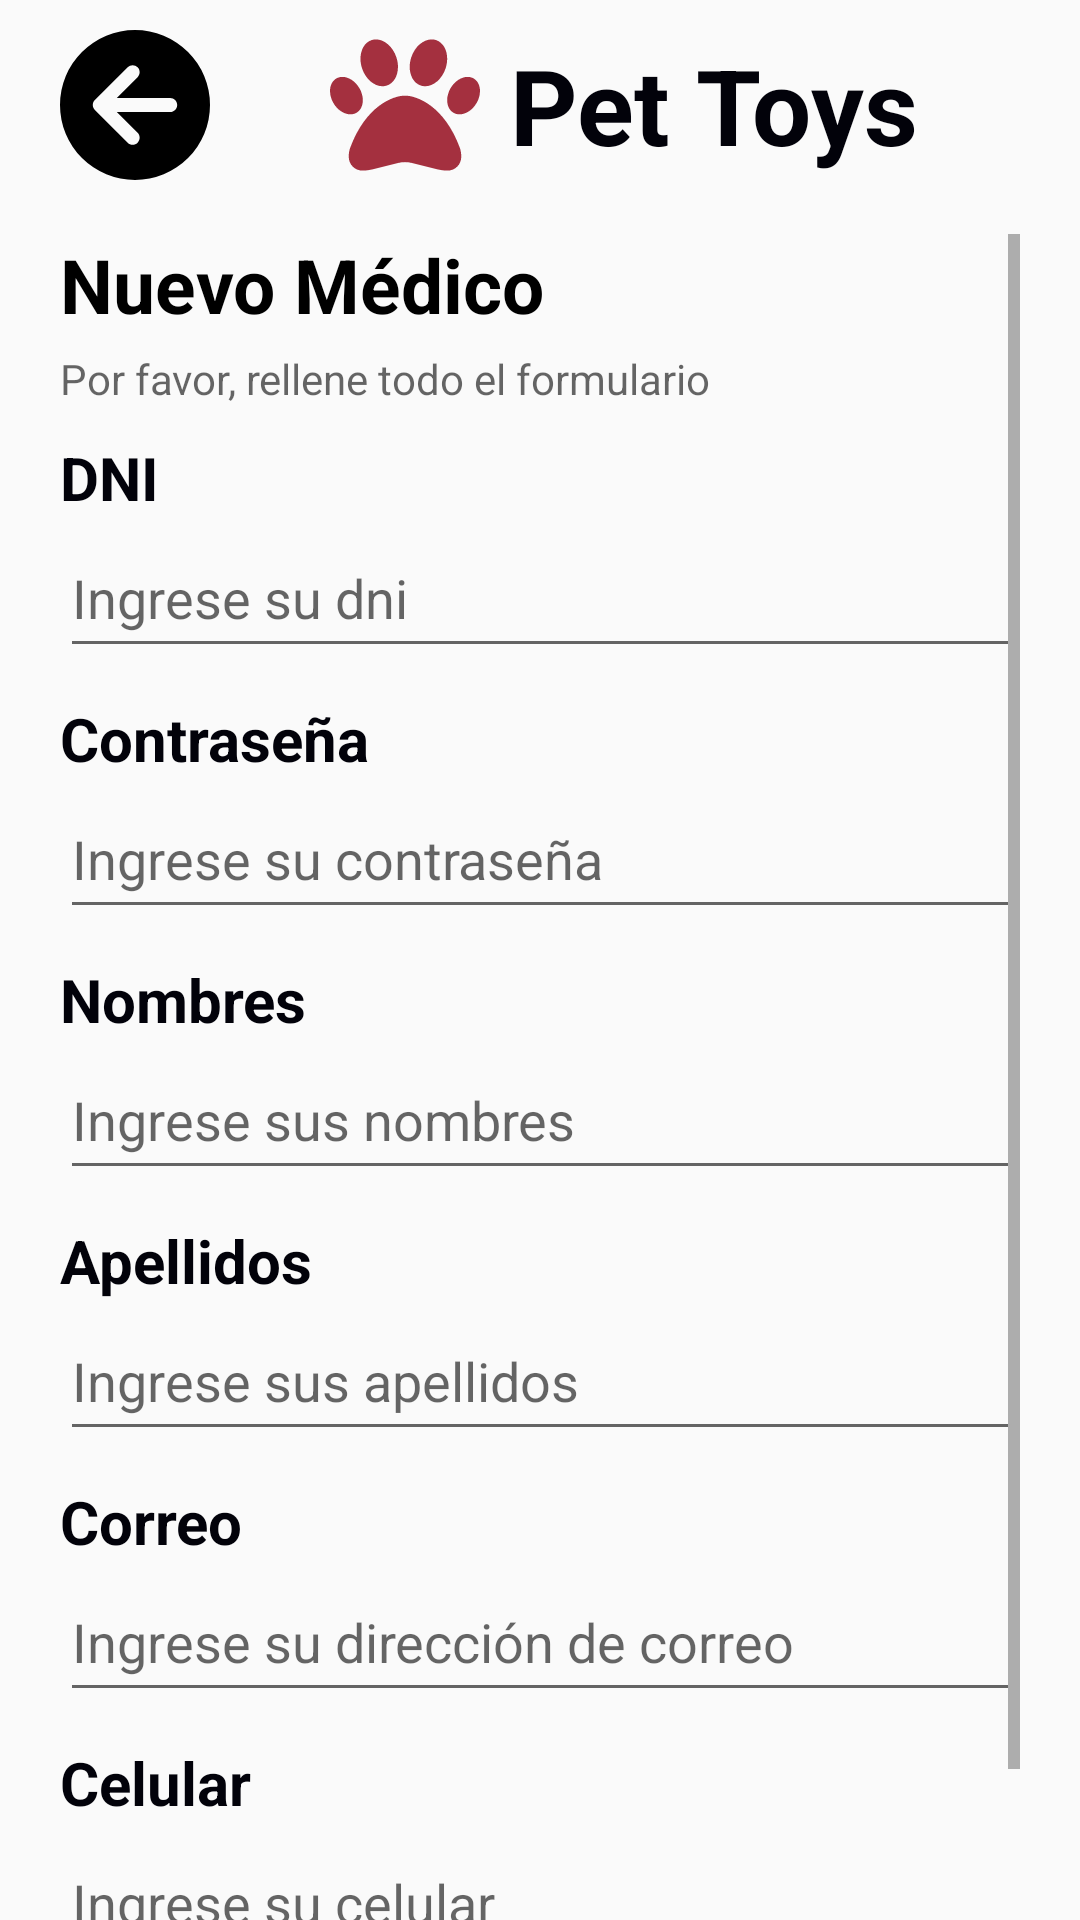

Point at icon controls on the screen. Image size 1080px x 1920px, points as point (x, y).
paw: point (405, 105)
